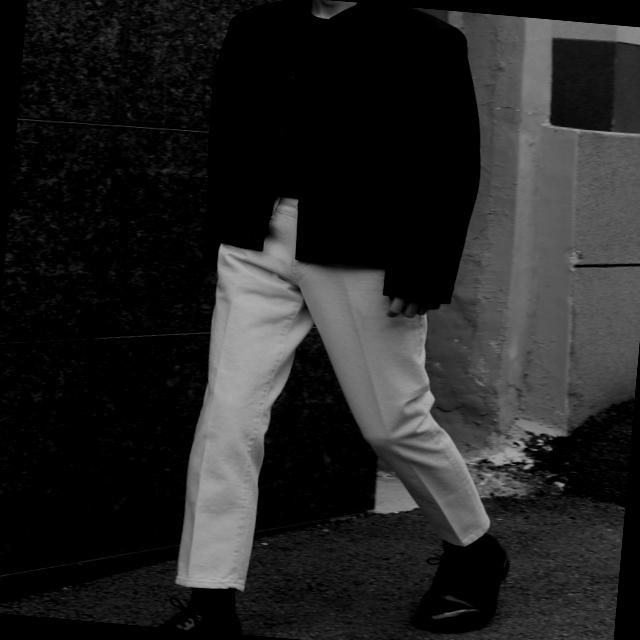cottonpants: (172, 186, 522, 614)
jacket: (191, 0, 496, 307)
